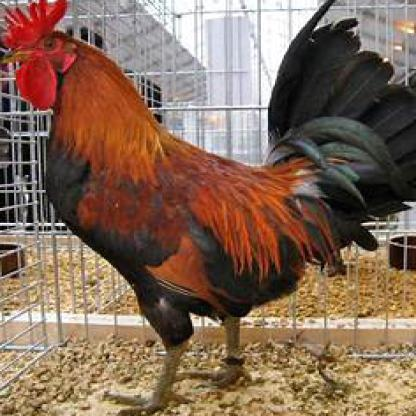chicken: (0, 0, 414, 415)
